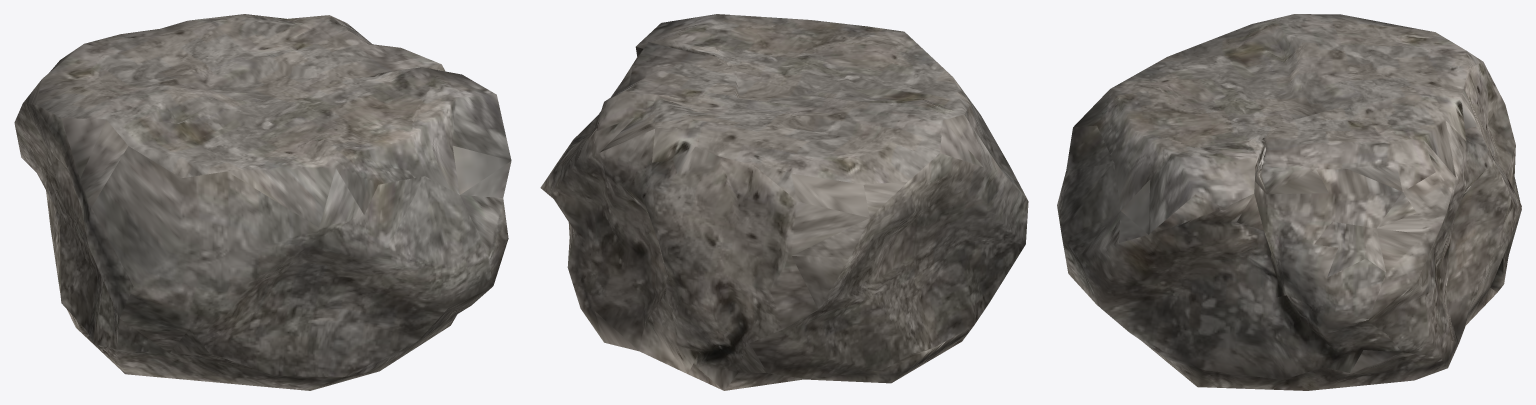
File: boulder_d_lod2.glb
3 renders of one model, left to right at view 1: azimuth 30°, elevation 25°; view 2: azimuth 150°, elevation 25°; view 3: azimuth 270°, elevation 25°, orthographic. The views are drawn at different scales.
Parts seen in each view (by area): view 1: boulder_d_lod2; view 2: boulder_d_lod2; view 3: boulder_d_lod2.
Part boxes in pixels (bbox=[...]): boulder_d_lod2: bbox=[14, 14, 511, 390]; boulder_d_lod2: bbox=[540, 14, 1028, 390]; boulder_d_lod2: bbox=[1057, 14, 1521, 390].
Size of the model in its own units: 4.49 by 2.56 by 4.53.
Materials: 1 (1 with a texture image).
